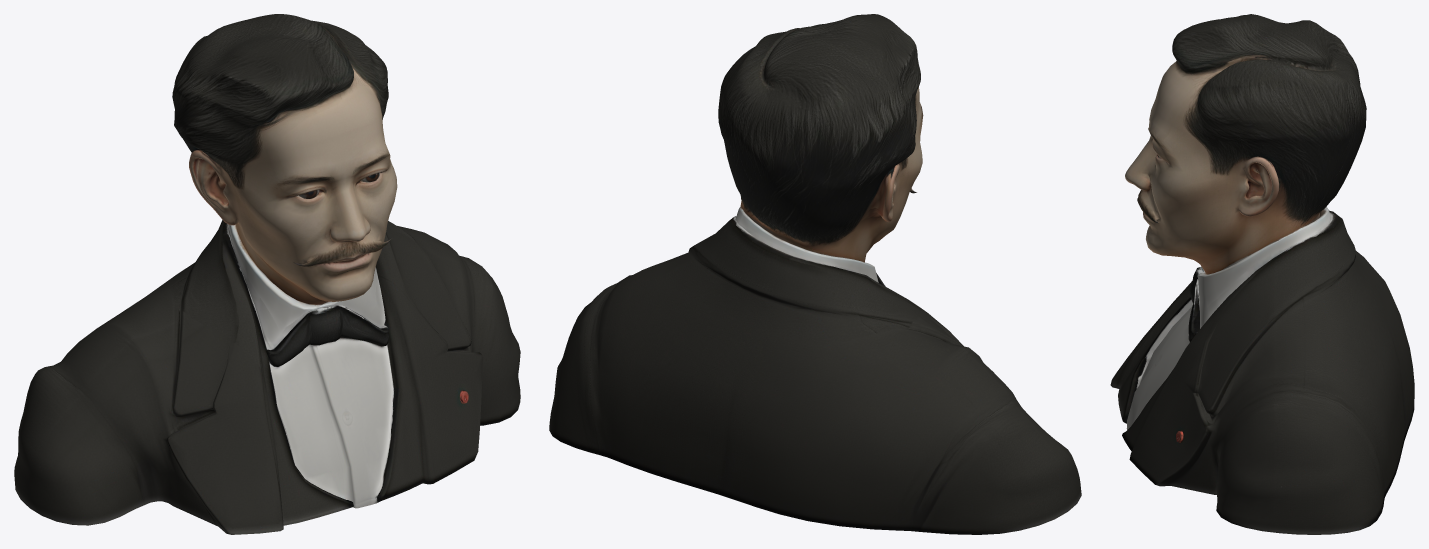
Rendered from gbr1.glb.
3 views of the same model, side by side, from view 1: azimuth 30°, elevation 25°; view 2: azimuth 150°, elevation 25°; view 3: azimuth 270°, elevation 25° (orthographic). The views are drawn at different scales.
Visible parts, largest first — view 1: tripo_node_2eaf9e67-34ce-4747-916b-c023cfdd8ab4; view 2: tripo_node_2eaf9e67-34ce-4747-916b-c023cfdd8ab4; view 3: tripo_node_2eaf9e67-34ce-4747-916b-c023cfdd8ab4.
Boxes of the visible parts, box(x1,y1,x2,y2) form: tripo_node_2eaf9e67-34ce-4747-916b-c023cfdd8ab4: box(14, 14, 520, 534); tripo_node_2eaf9e67-34ce-4747-916b-c023cfdd8ab4: box(549, 14, 1081, 534); tripo_node_2eaf9e67-34ce-4747-916b-c023cfdd8ab4: box(1110, 14, 1414, 534).
Bounding box in the file's own units: 0.9995 × 0.8345 × 0.5718.
Materials: 1 (1 with a texture image).
